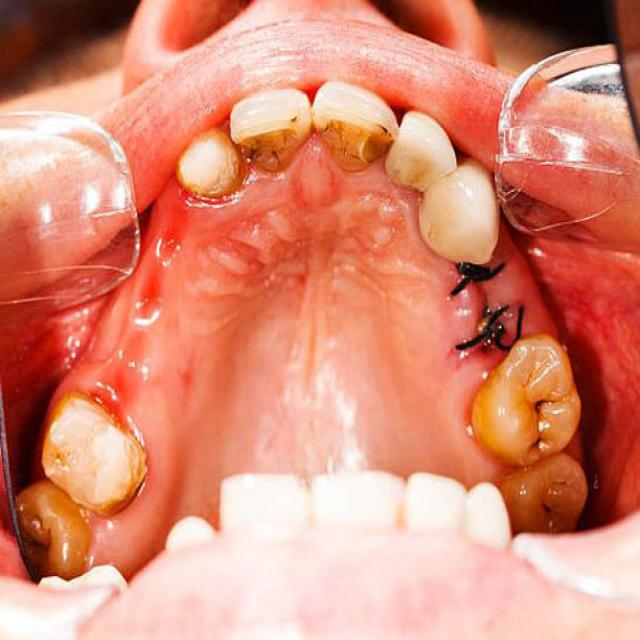caries: (525, 389, 569, 447)
